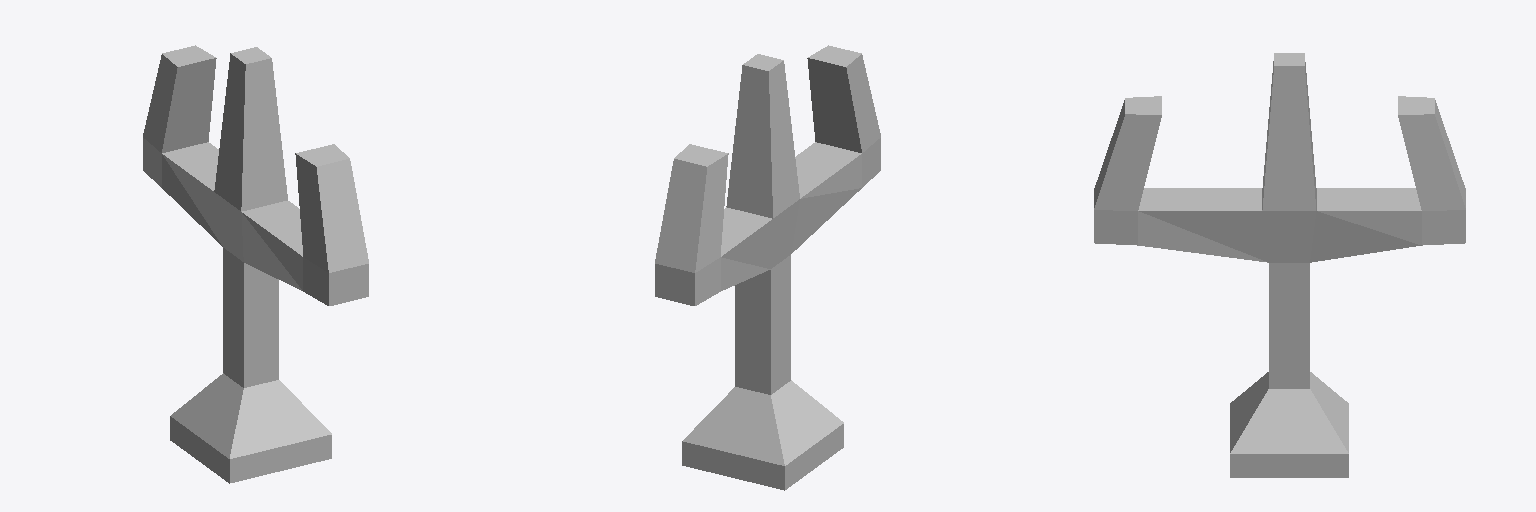
File: Light.obj
3 views of the same model, side by side, from view 1: azimuth 30°, elevation 25°; view 2: azimuth 150°, elevation 25°; view 3: azimuth 270°, elevation 25° (orthographic).
Parts seen in each view (by area): view 1: Cube; view 2: Cube; view 3: Cube.
Boxes of the visible parts, x1=… form: Cube: x1=143, y1=45, x2=368, y2=483; Cube: x1=655, y1=45, x2=880, y2=490; Cube: x1=1094, y1=53, x2=1465, y2=477.
Bounding box in the file's own units: 0.2509 × 0.9176 × 0.7864.